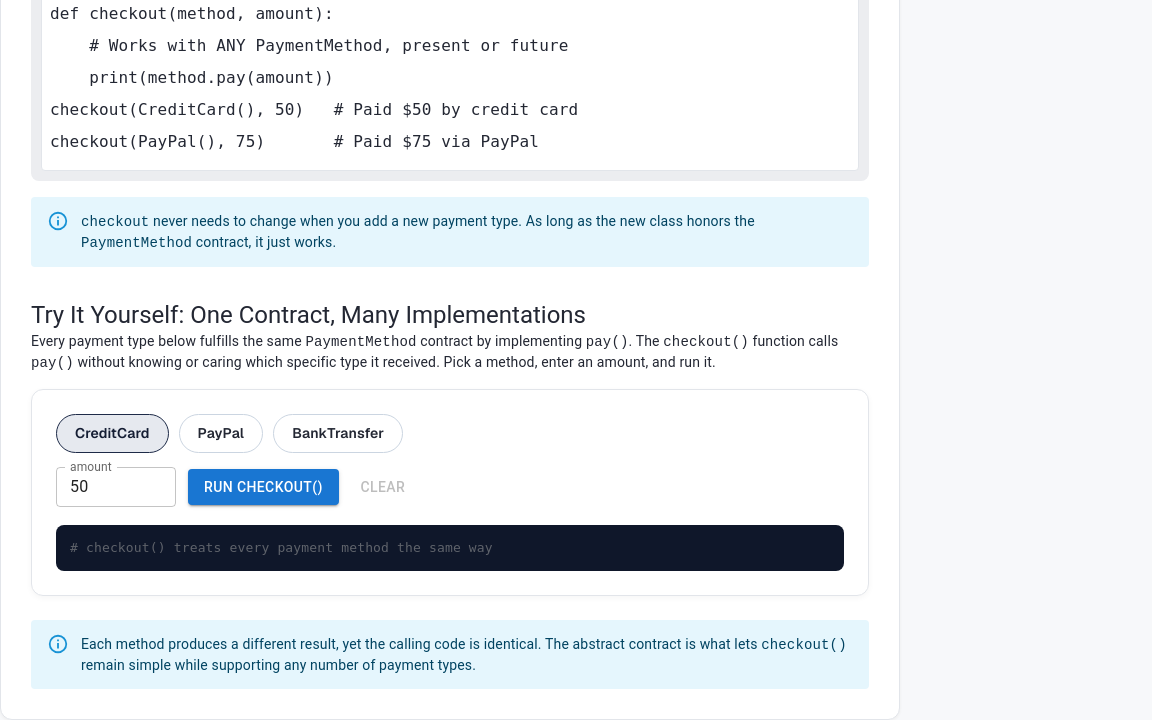
AbstractionConcept › honors a changed amount
(page scrolled)
Replace the text in the number field with "200" at {"x": 116, "y": 487}, box 56,467 -> 176,507
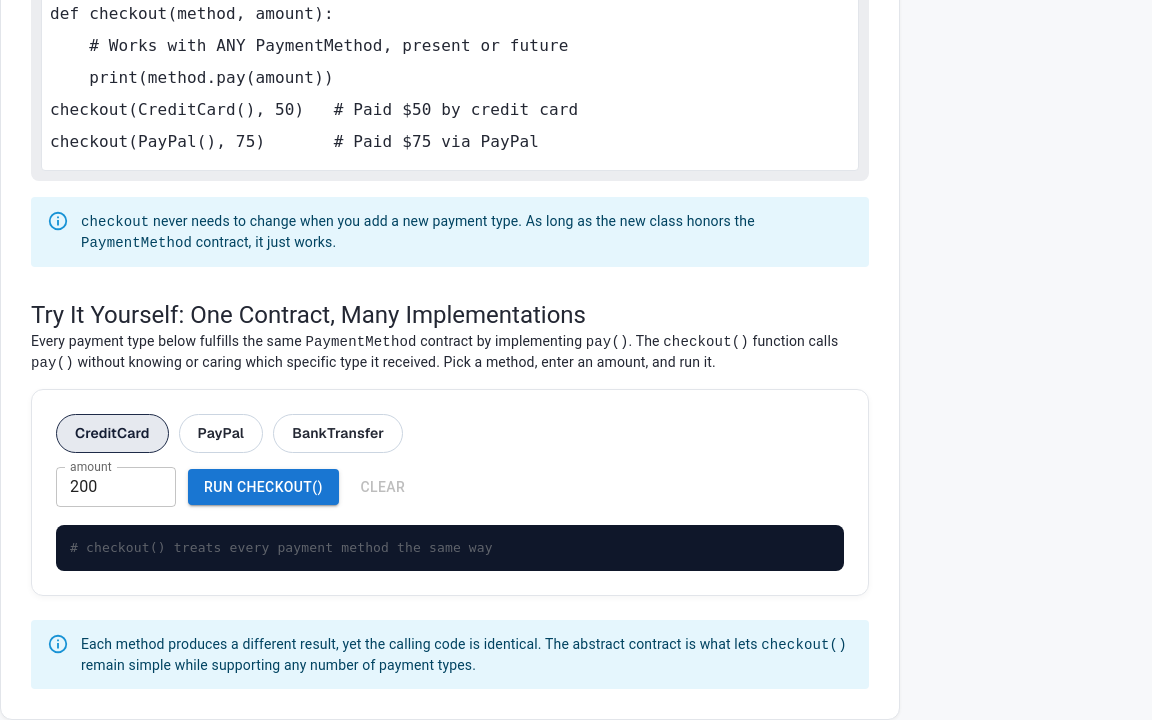
Click the button "Run checkout()" at {"x": 263, "y": 487}, box 188,469 -> 339,505
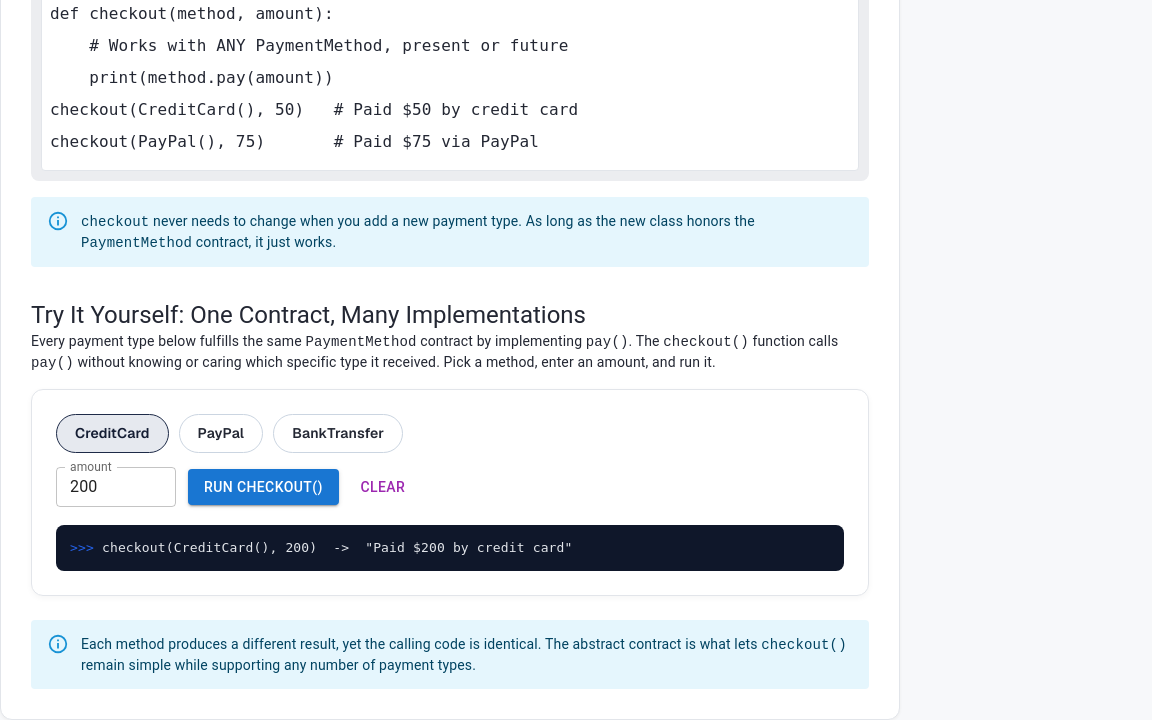
Now the text "Paid $200" is shown, box 102,540 -> 572,555
